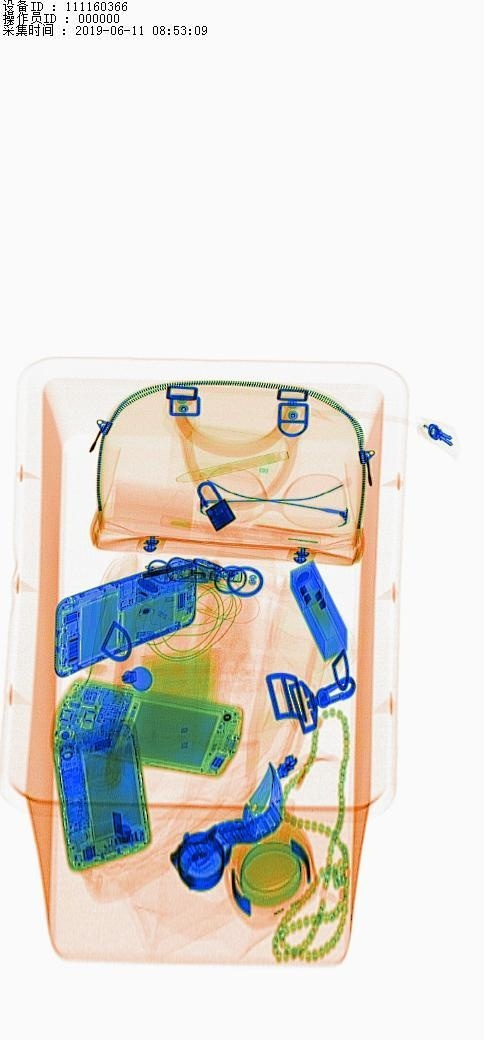NonmetallicFire: (134, 559, 257, 588)
